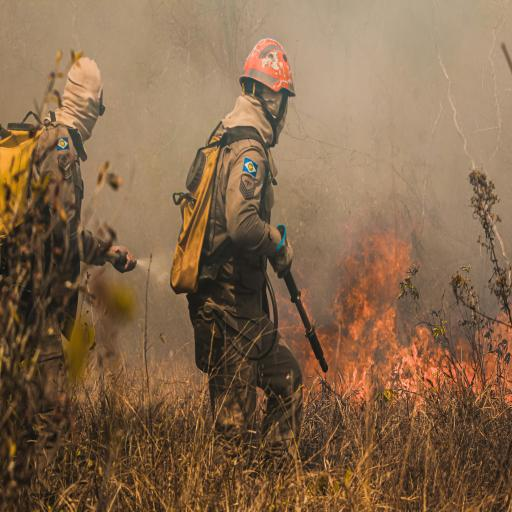wildfire: (3, 9, 512, 502)
